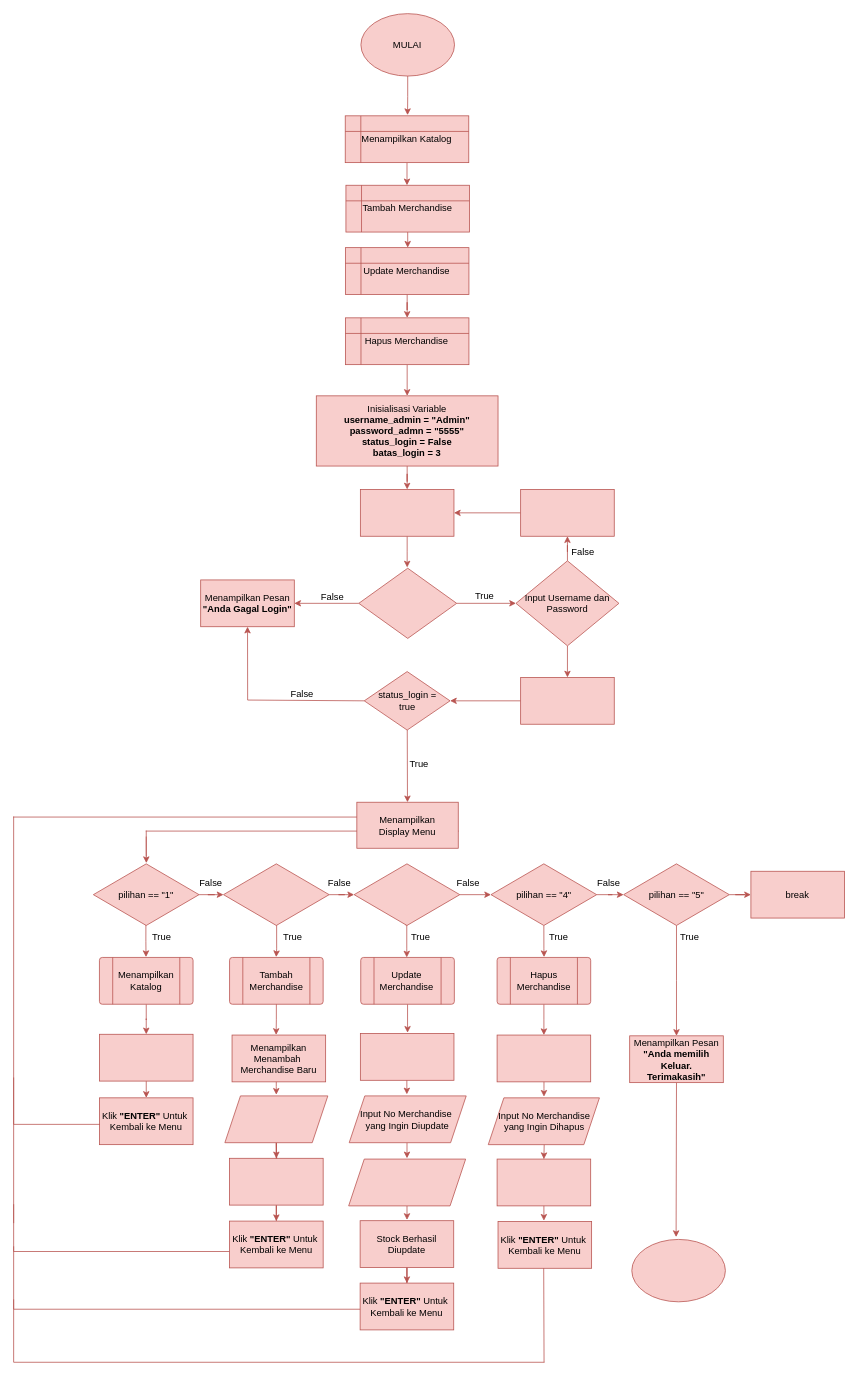
Image size: 859x1377. Some labels were removed from this diagram. Each missing label, with the centre of its shape:
batas_login =-1: [567,512]
batas_login > 0: [407,602]
Input Detail Merchandise Baru: [276,1119]
Input Jumlah Stock Baru: [407,1182]
Menampilkan Hapus Merchandise: [543,1058]
Menampilkan List Katalog: [146,1057]
Menampilkan Update Stok Merchandise: [407,1056]
Merchandise Berhasil Dihapus: [543,1182]
Merchandise Berhasil Ditambahkan: [276,1181]
pilihan == "2": [276,894]
pilihan == "3": [406,894]
Proses Login: [407,512]
SELESAI: [678,1270]
Set status_login = true: [567,700]
